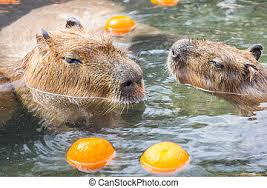capivara: (1, 18, 145, 136), (168, 37, 267, 118)
